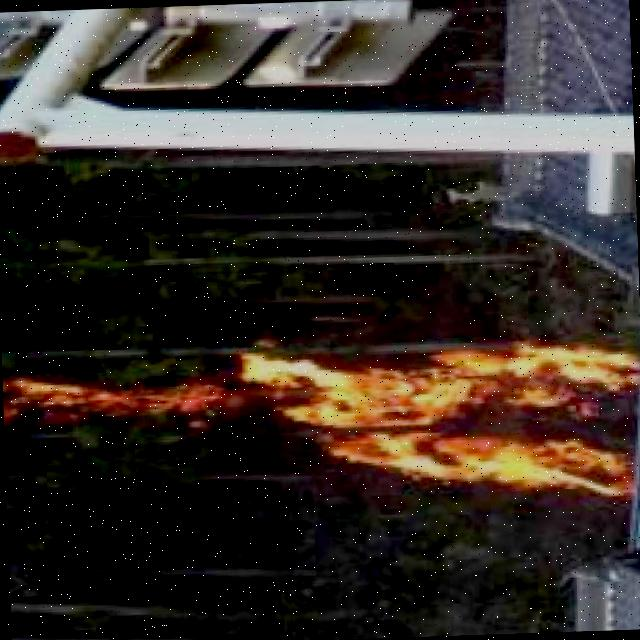fire: (0, 280, 635, 519)
